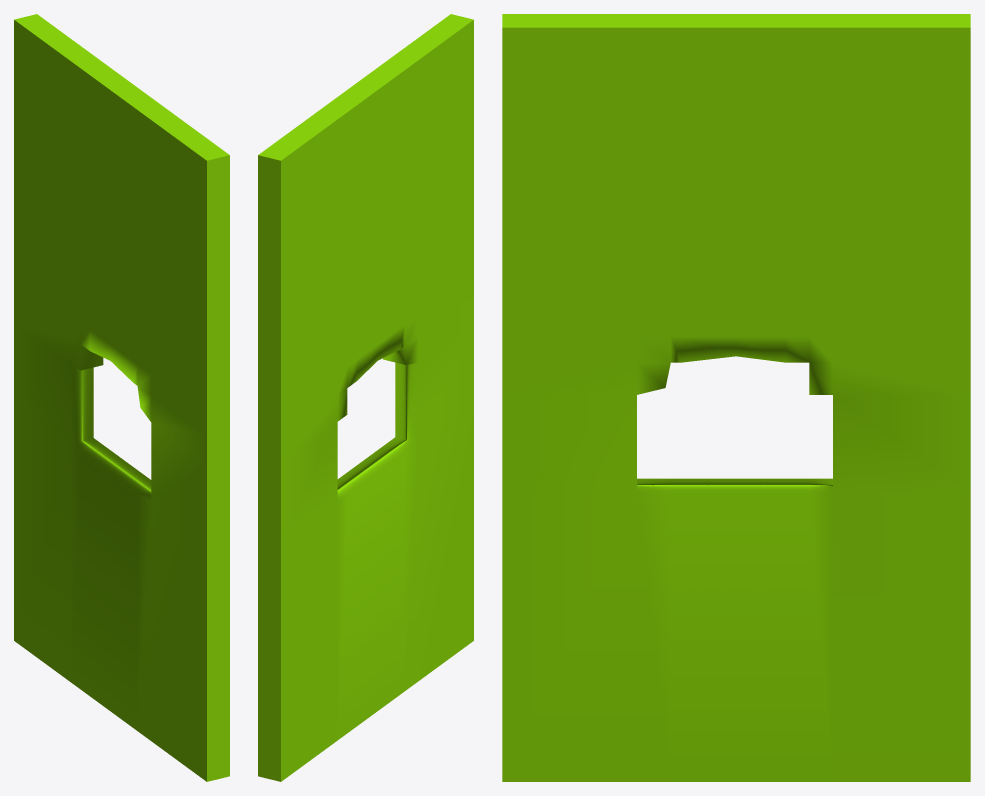
The model's file is Wall_03_Window_Half.fbx.
3 renders of one model, left to right at view 1: azimuth 30°, elevation 25°; view 2: azimuth 150°, elevation 25°; view 3: azimuth 270°, elevation 25°, orthographic. The views are drawn at different scales.
Parts seen in each view (by area): view 1: Wall_03_Window_Half; view 2: Wall_03_Window_Half; view 3: Wall_03_Window_Half.
Part boxes in pixels (x1=…): Wall_03_Window_Half: x1=14, y1=14, x2=229, y2=781; Wall_03_Window_Half: x1=258, y1=14, x2=473, y2=781; Wall_03_Window_Half: x1=502, y1=14, x2=970, y2=781.
Size of the model in its own units: 22.84 by 572 by 322.
